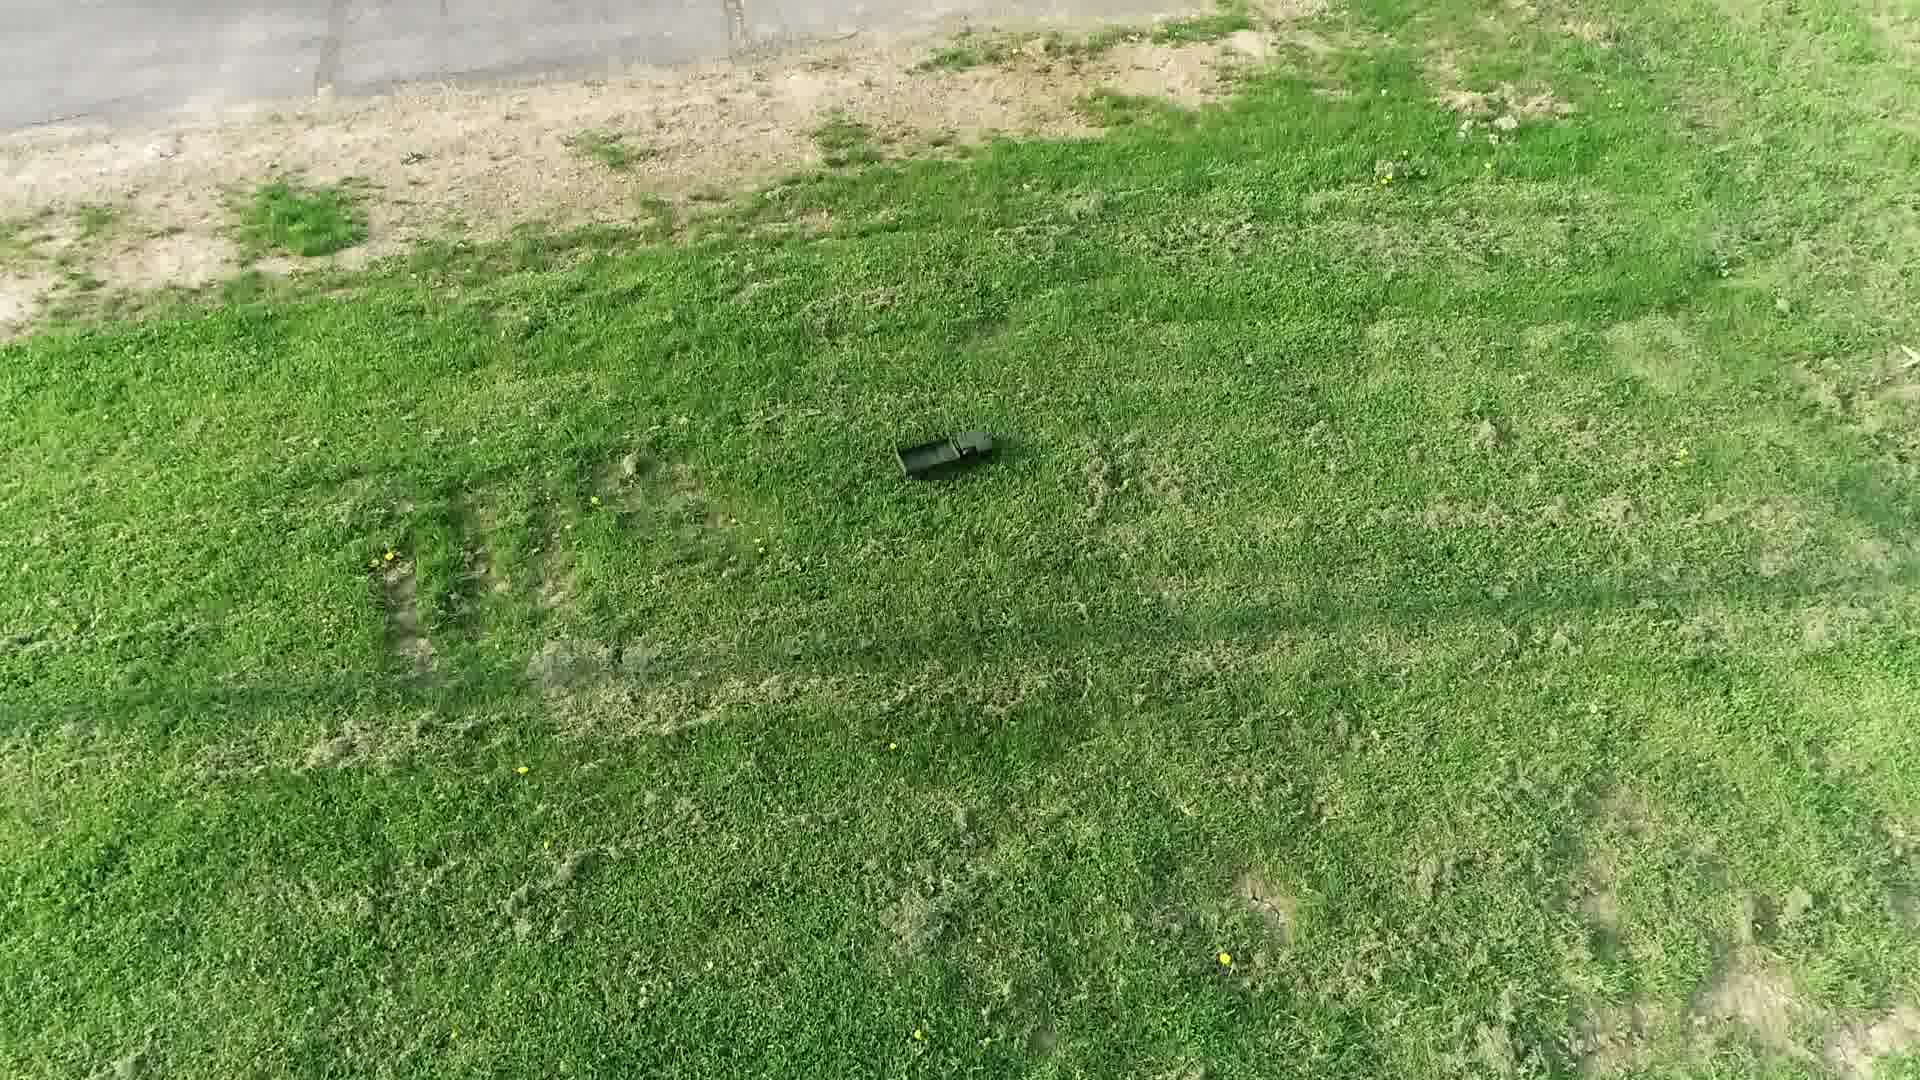transporter9: (887, 419, 1004, 483)
